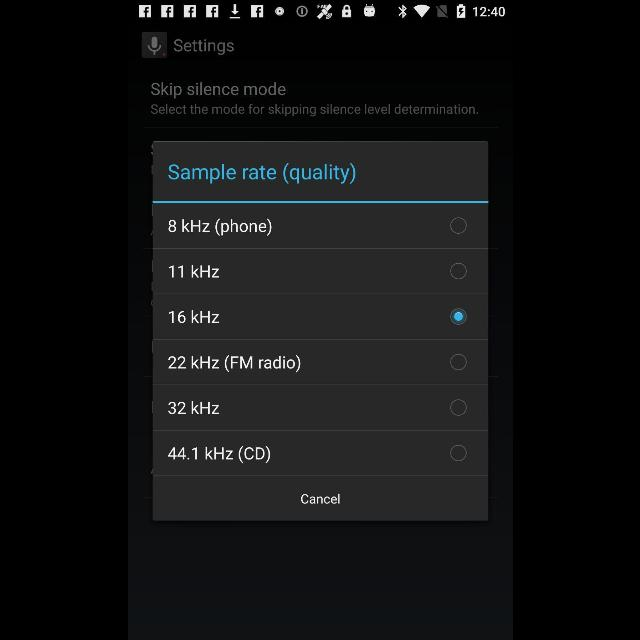checkbox: (449, 262, 466, 280), (449, 308, 466, 326), (449, 444, 466, 462), (449, 354, 466, 371), (449, 218, 466, 234), (450, 400, 466, 416)
icon: (141, 32, 167, 58)
panel: (152, 142, 488, 520)
text: (150, 104, 478, 116), (168, 164, 354, 184), (150, 83, 284, 99), (166, 356, 300, 372), (168, 218, 270, 236), (168, 446, 270, 464), (173, 39, 233, 55), (168, 310, 218, 324), (168, 265, 218, 277), (168, 402, 218, 414)
textbutton: (152, 476, 488, 520)
uppertaskbar: (128, 1, 512, 23)
